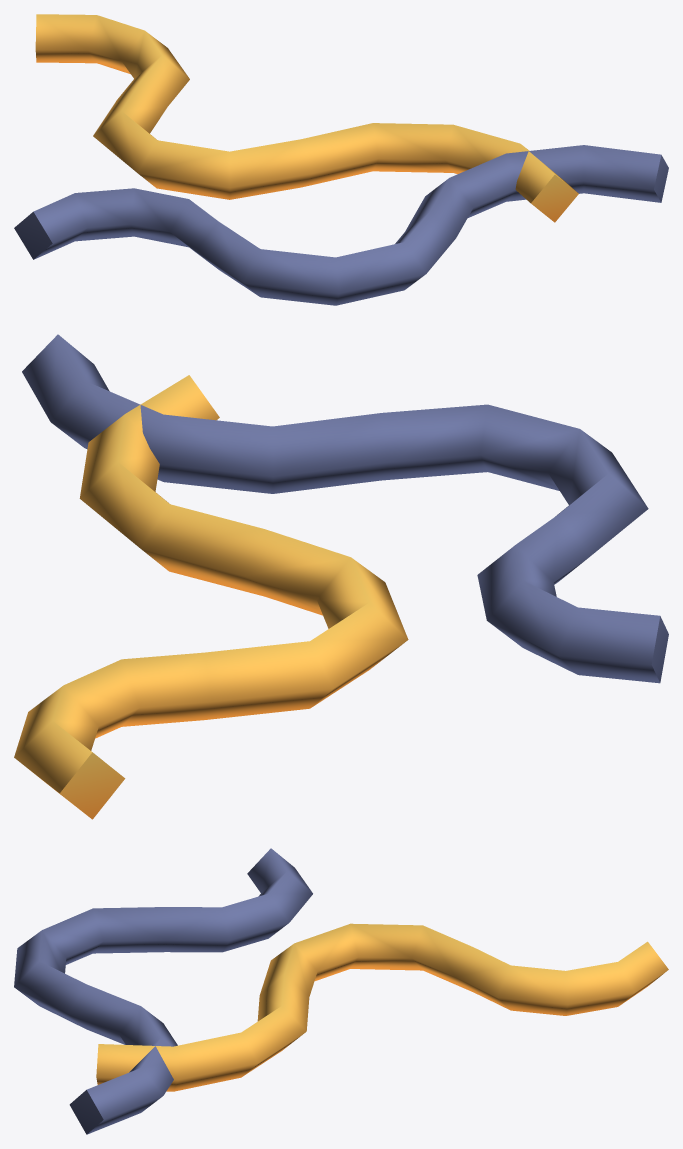
File: kenney-space-cables.glb
3 renders of one model, top to bottom at view 1: azimuth 30°, elevation 25°; view 2: azimuth 150°, elevation 25°; view 3: azimuth 270°, elevation 25°, orthographic. The views are drawn at different scales.
Visible parts, largest first — view 1: cables; view 2: cables; view 3: cables.
Boxes of the visible parts, x1,y1,x2,y2 form: cables: (14, 14, 668, 305); cables: (14, 334, 668, 819); cables: (14, 848, 668, 1134).
Size of the model in its own units: 1.44 by 0.12 by 1.58.
1 material, 1 textured.
